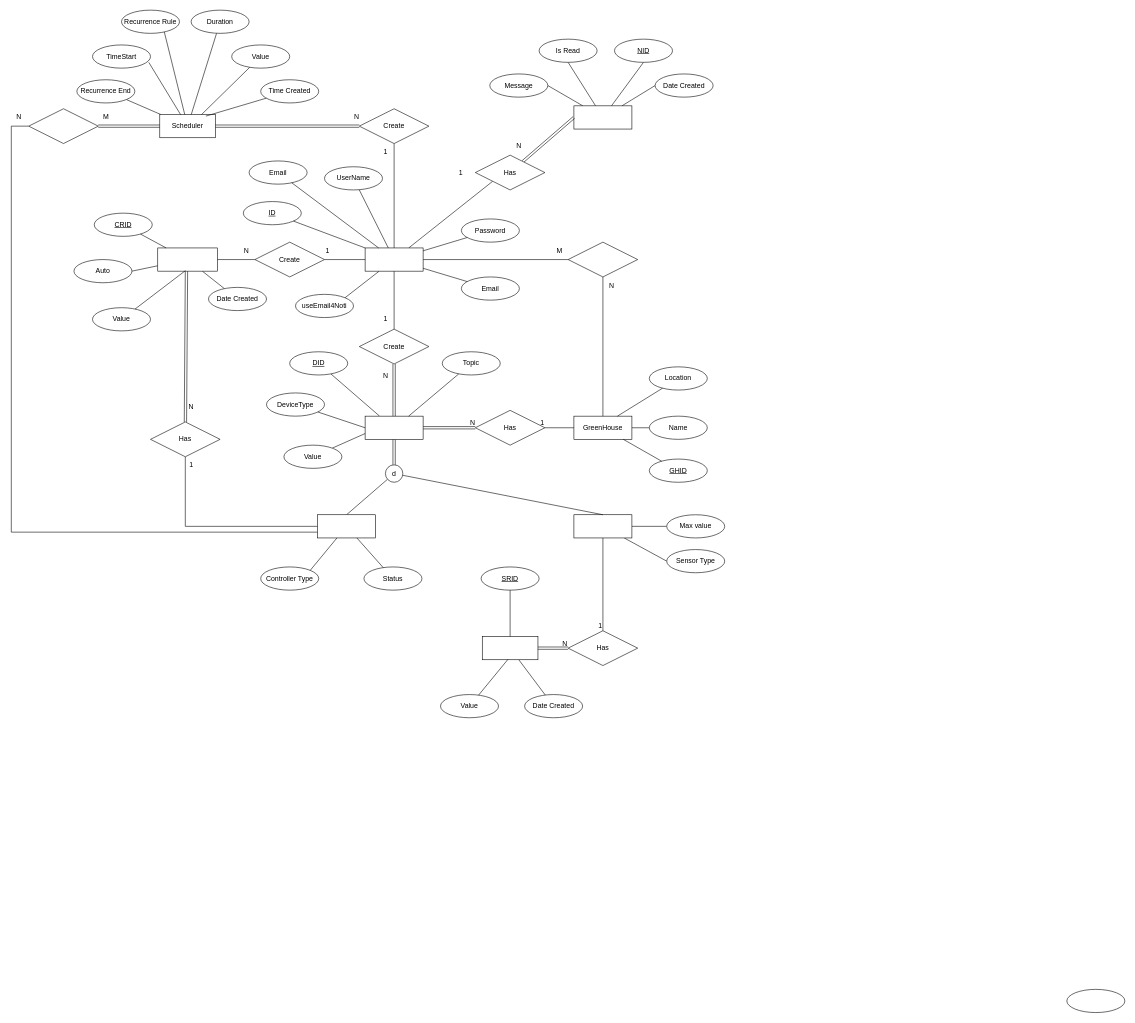
This 1135x1023 diagram has some shape labels left out. The centre of each missing label's shape, as x and y in pixels:
"Controller" goes at pixel 346 526.
"Controller Record" goes at pixel 187 259.
"Device" goes at pixel 394 427.
"Maximum Value" goes at pixel 1095 1001.
"Notification" goes at pixel 602 117.
"Sensor" goes at pixel 602 526.
"Sensor Record" goes at pixel 510 648.
"Subcribe" goes at pixel 603 259.
"Tun on/off" goes at pixel 63 126.
"User" goes at pixel 394 259.
